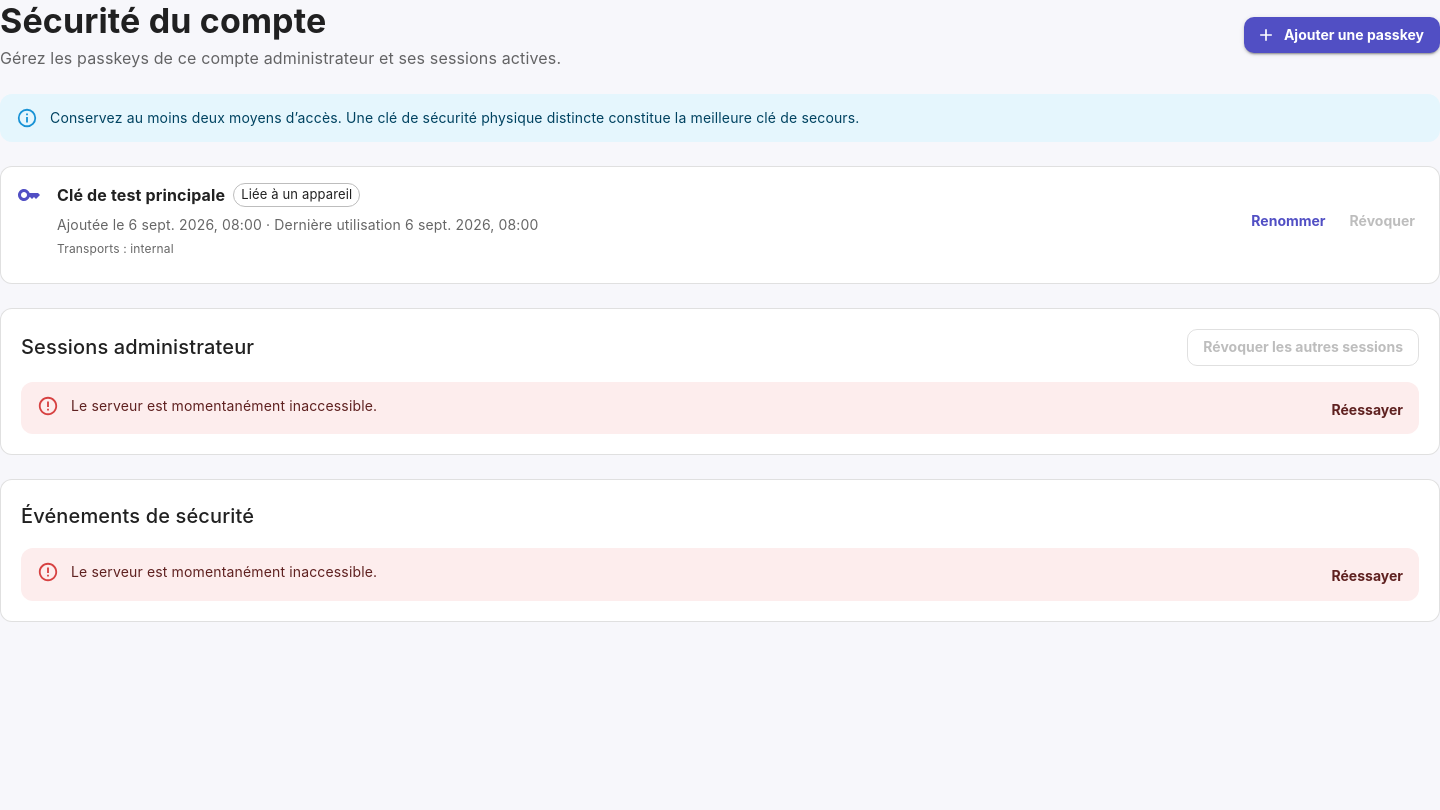
passkey management screen › uses a browser ceremony before adding a named backup passkey
The image size is (1440, 810).
Click the button "Ajouter une passkey" at (1342, 35), box [1244,17,1439,53]
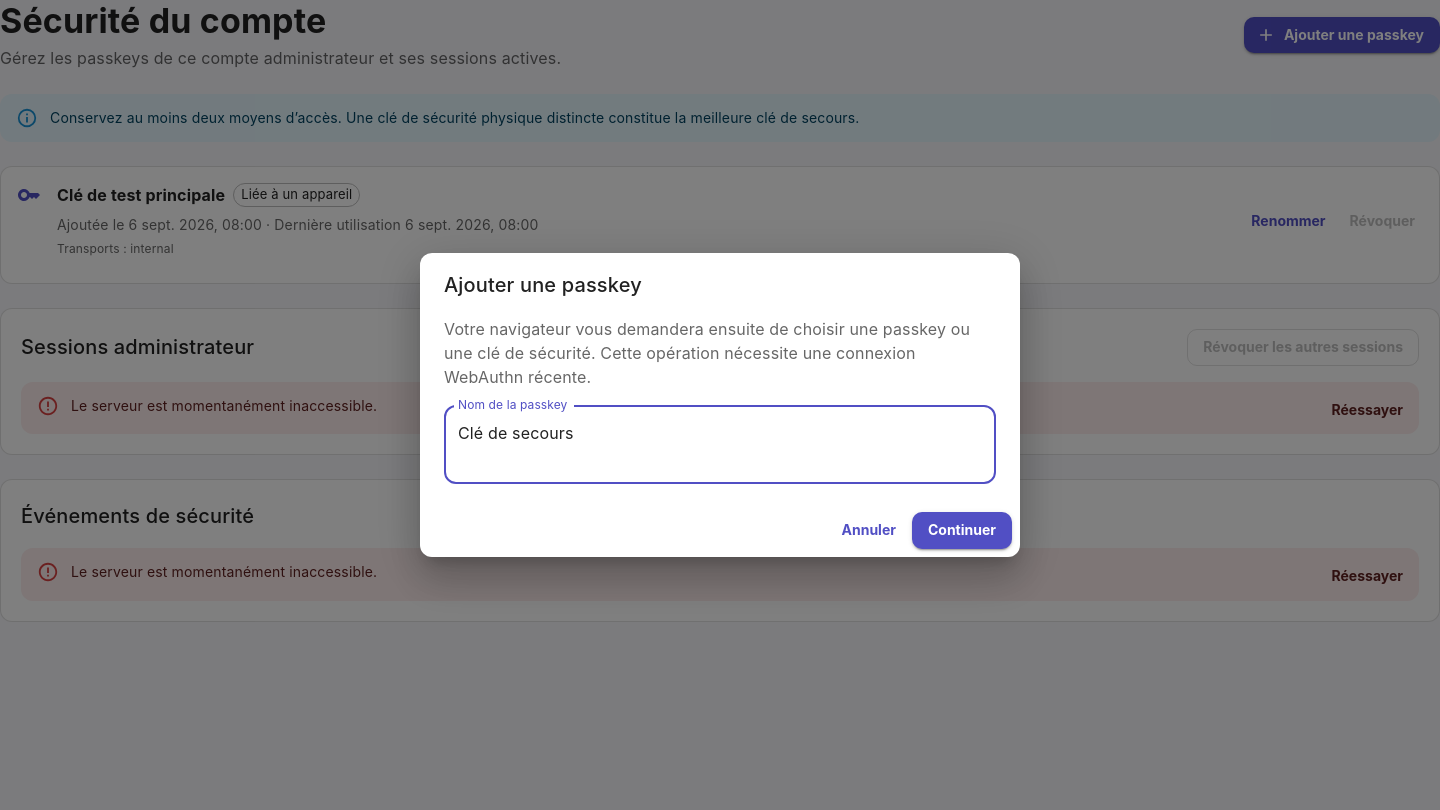
Replace the text in the text box labelled "Nom de la passkey" with "Clé physique de secours" at (720, 445), box [458,422,982,468]
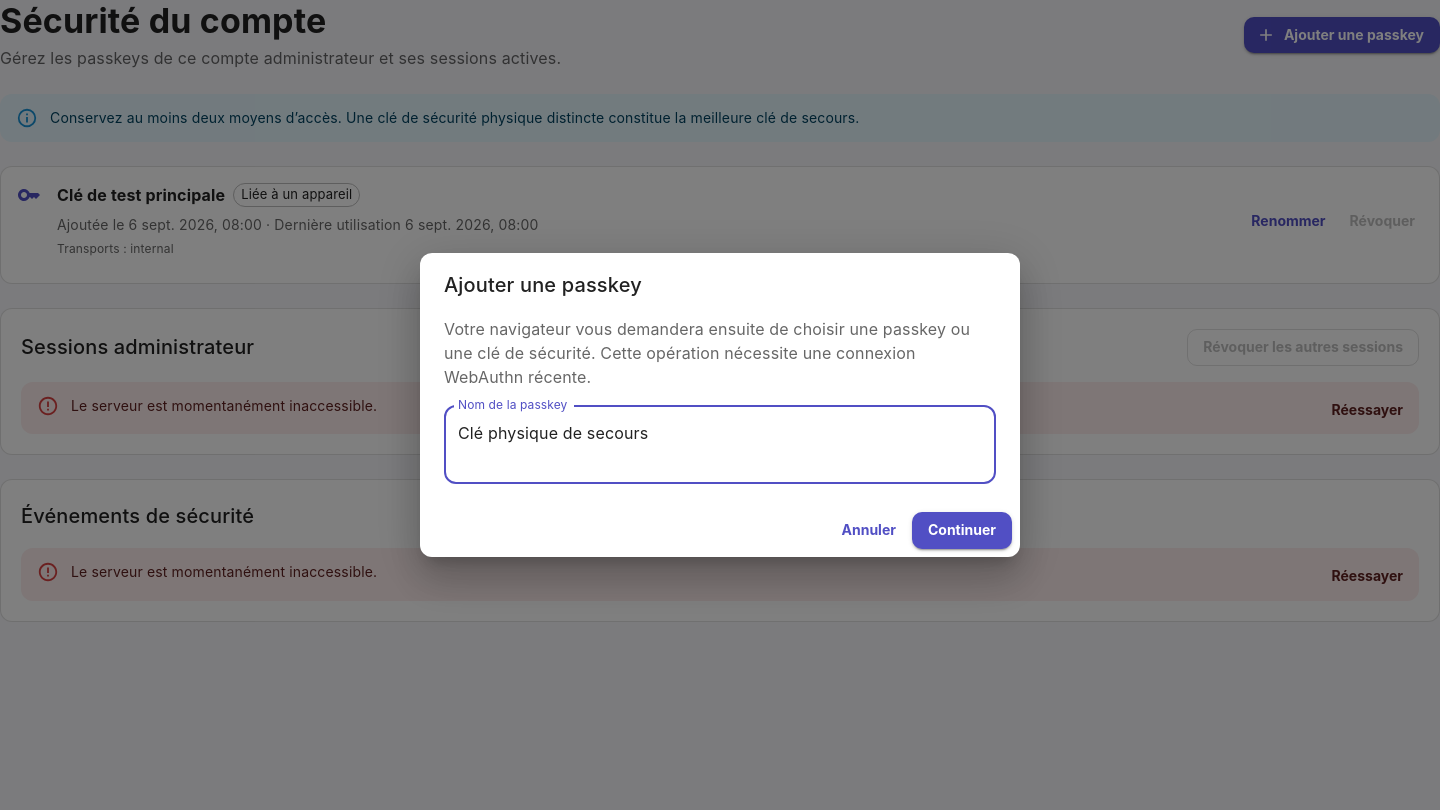
Click the button "Continuer" at (962, 531), box [912,512,1012,549]
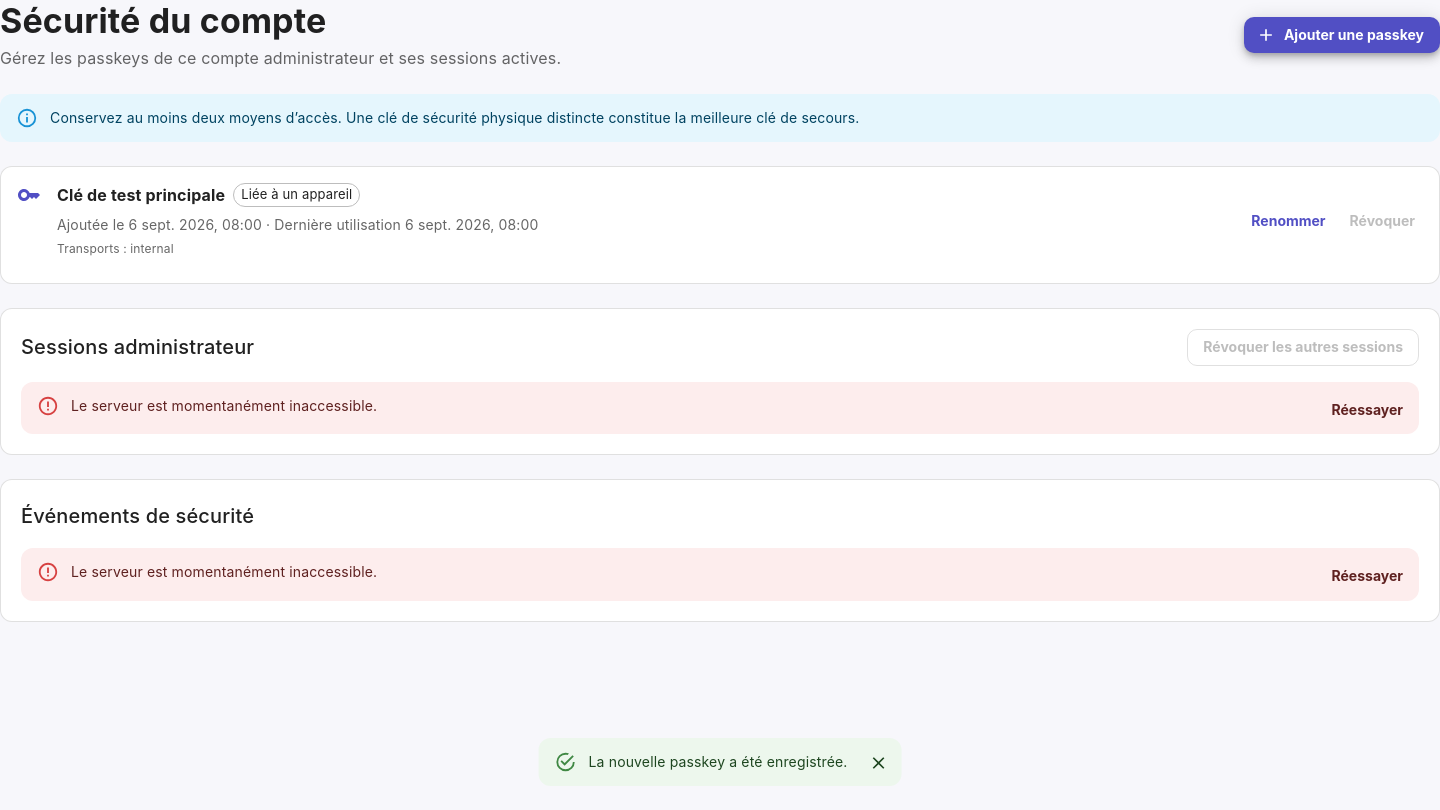
Now the text "La nouvelle passkey a été enregistrée." is shown, box [588,753,847,770]
